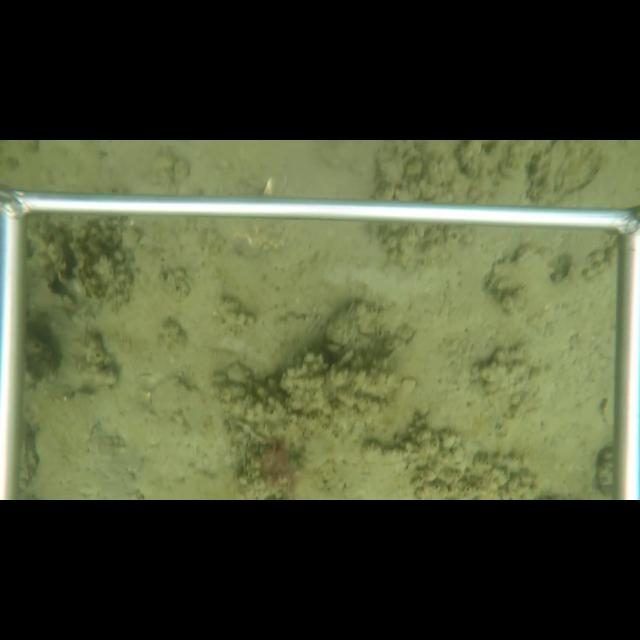Oyster-Indeterminate: (485, 251, 555, 296), (145, 375, 195, 419)
